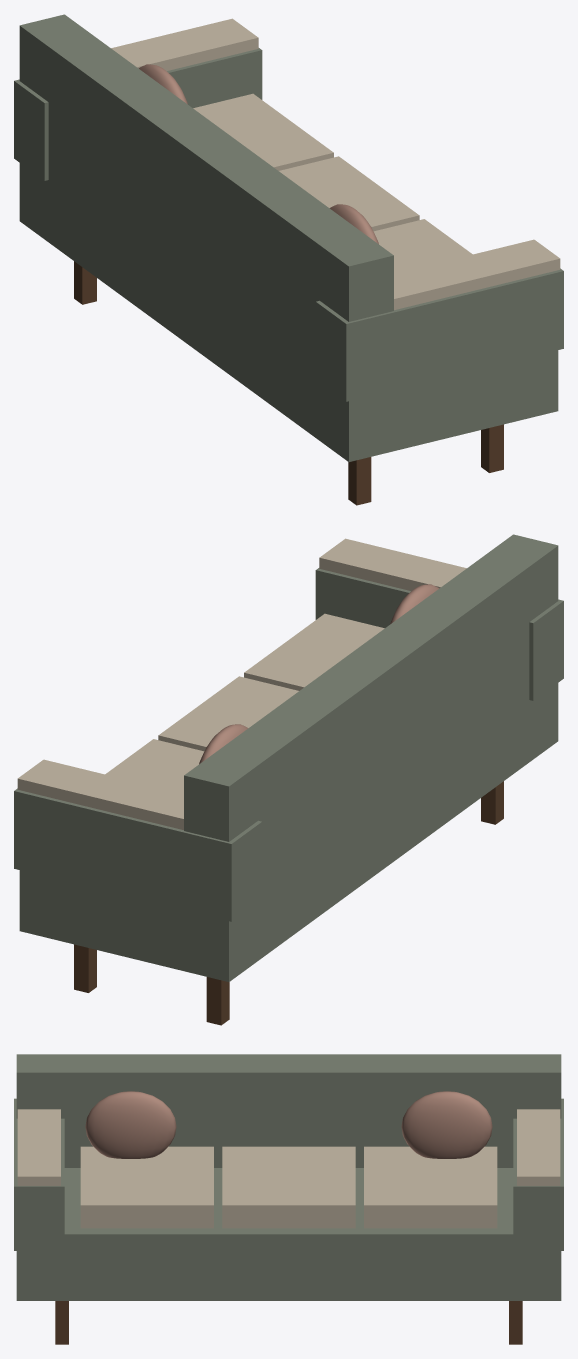
3 views of the same model, one above another, from view 1: azimuth 30°, elevation 25°; view 2: azimuth 150°, elevation 25°; view 3: azimuth 270°, elevation 25° (orthographic). The views are drawn at different scales.
Bounding box in the file's own units: 0.82 × 0.95 × 2.17.
